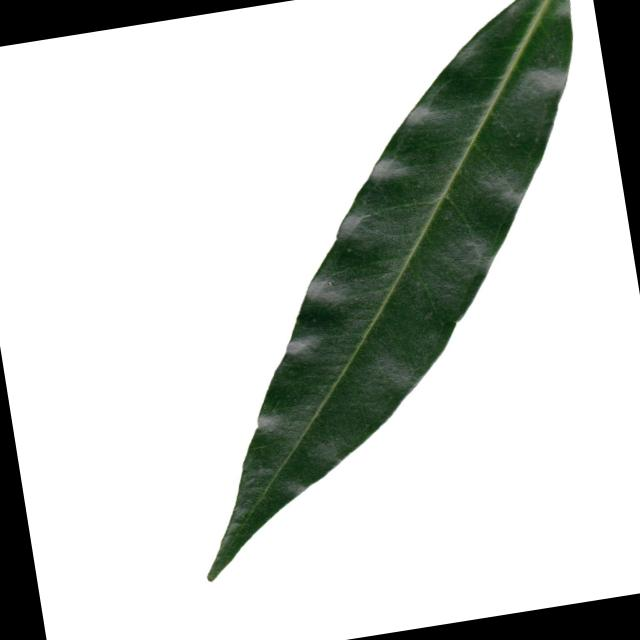Medicinal-Rose Apple: (123, 0, 640, 579)
